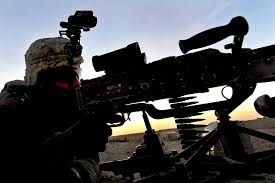gun: (67, 15, 274, 160)
